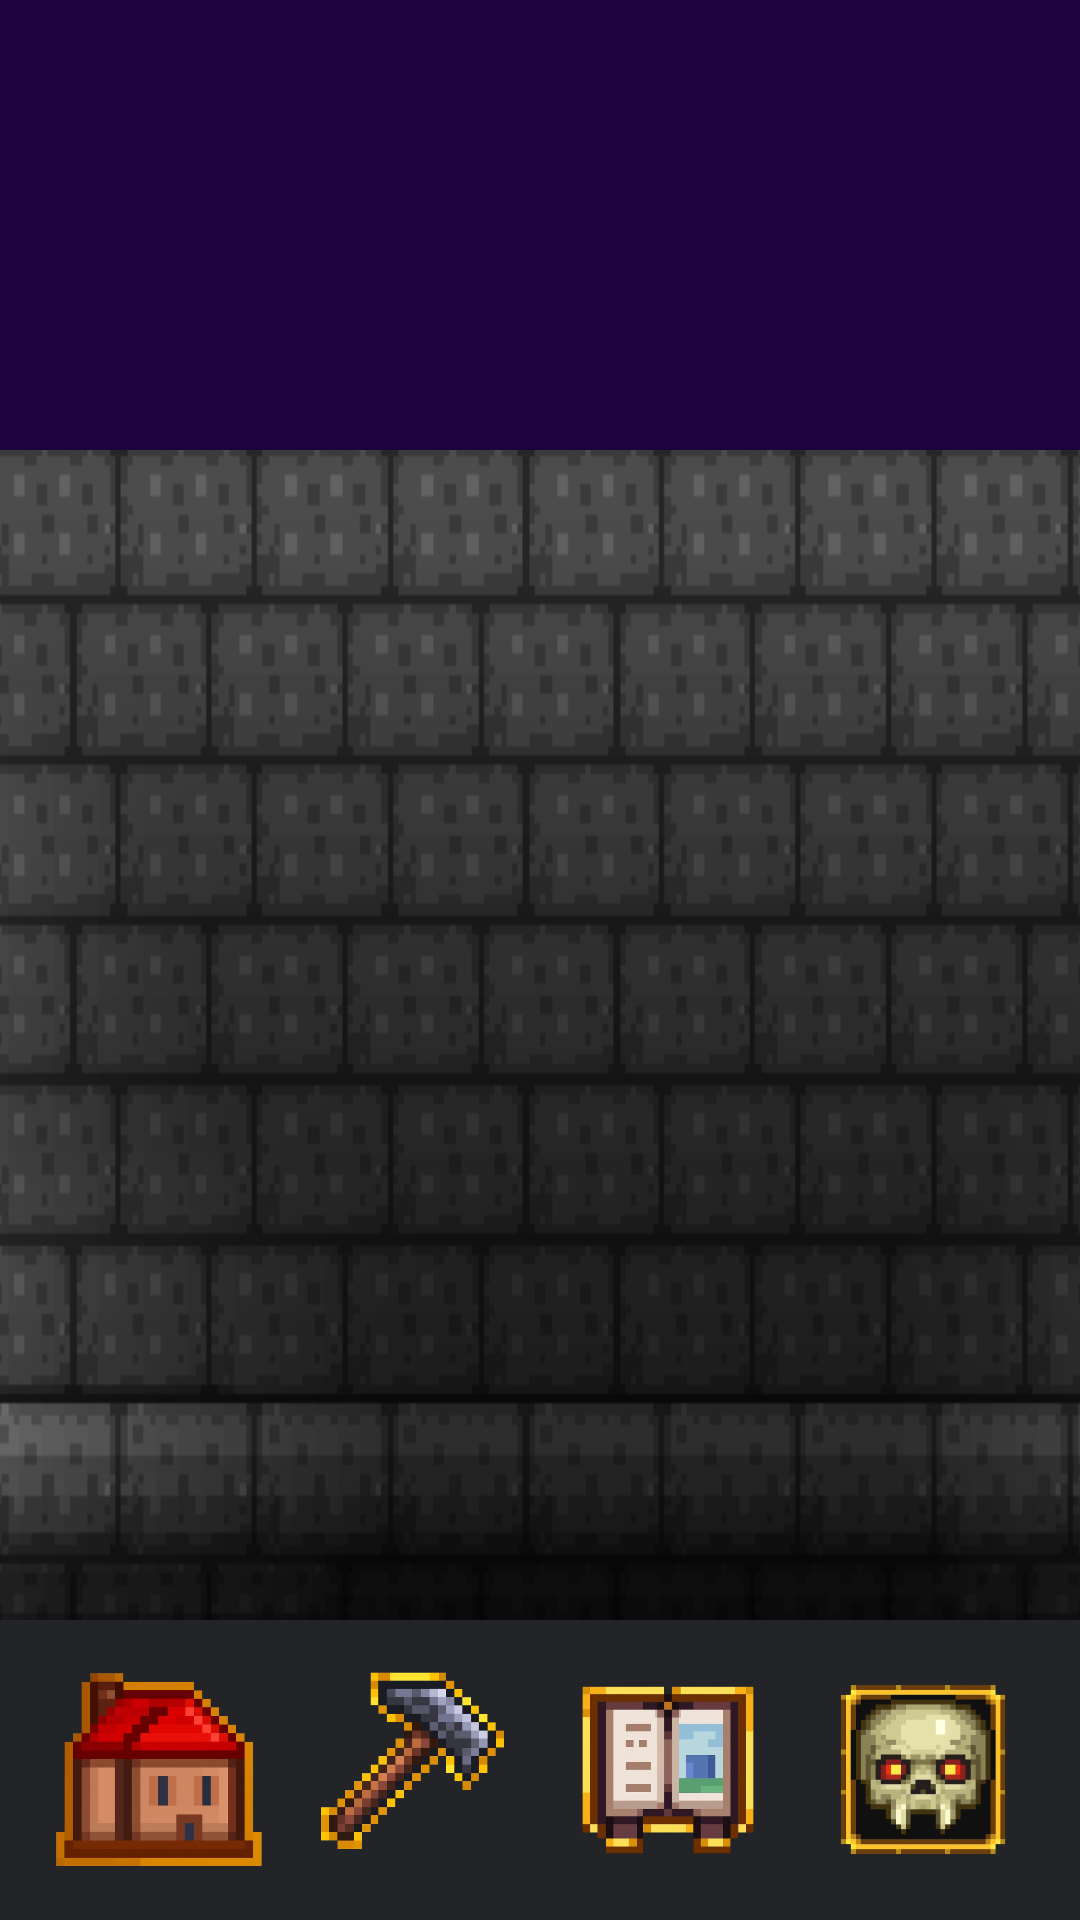

Screen size 1080px x 1920px. Icon name, then its box in pixels as (x1, y1, x2, y2):
Boss Checklist: (841, 1685, 1005, 1854)
Home: (56, 1673, 262, 1866)
